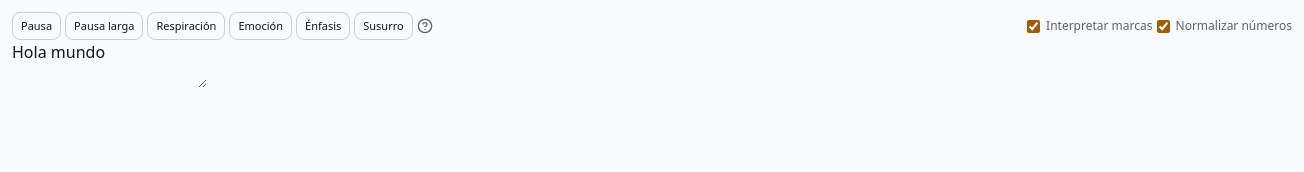
Test case: MarkupToolbar › disables the tag buttons when markup interpretation is off
Click the checkbox labelled "Interpretar marcas" at (1034, 26), box [1027,20,1040,32]
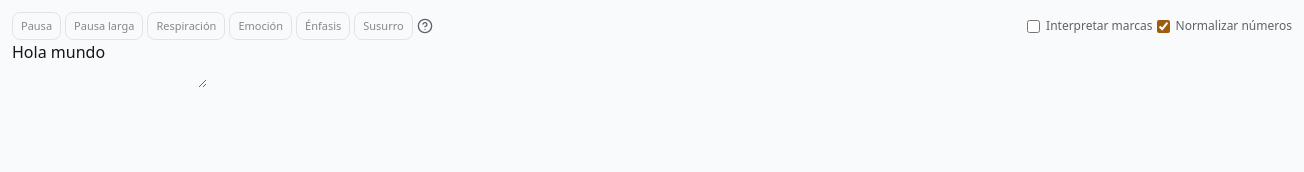
Expected: the button "Énfasis" is disabled, [296,12,350,40]
